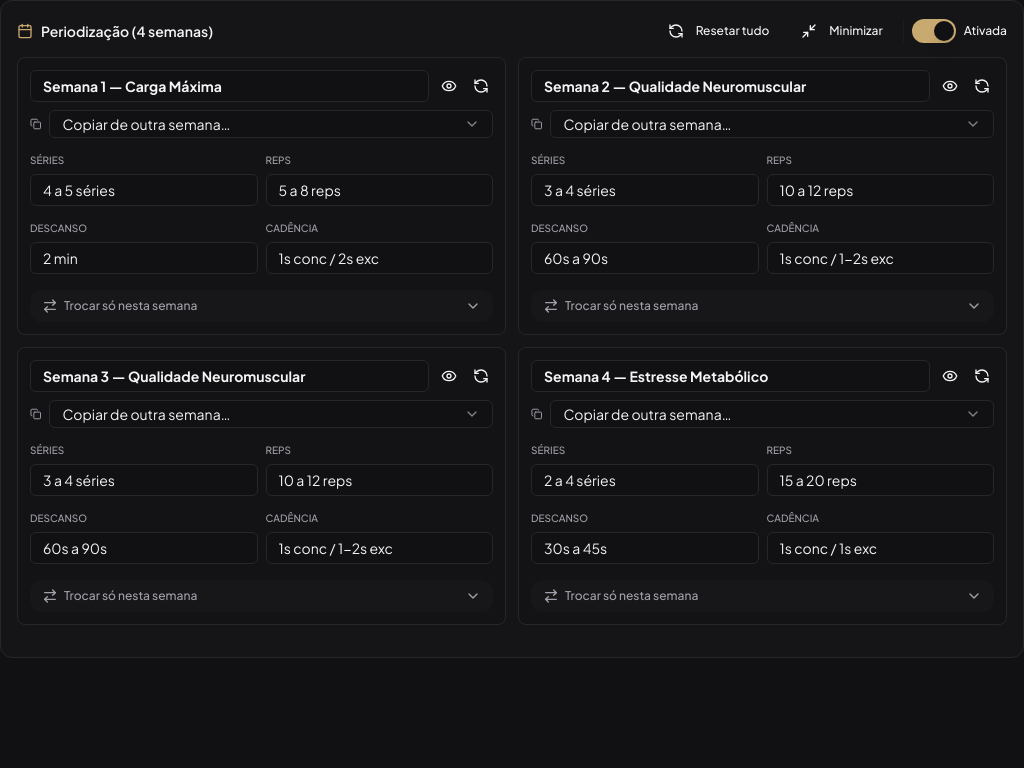
Test: WorkoutPeriodizationEditor — rascunho único + salvar por semana › Resetar padrão pede confirmação quando há rascunho não salvo na semana
Click the 1st button "Trocar só nesta semana": (131,306) [30,290,493,322]
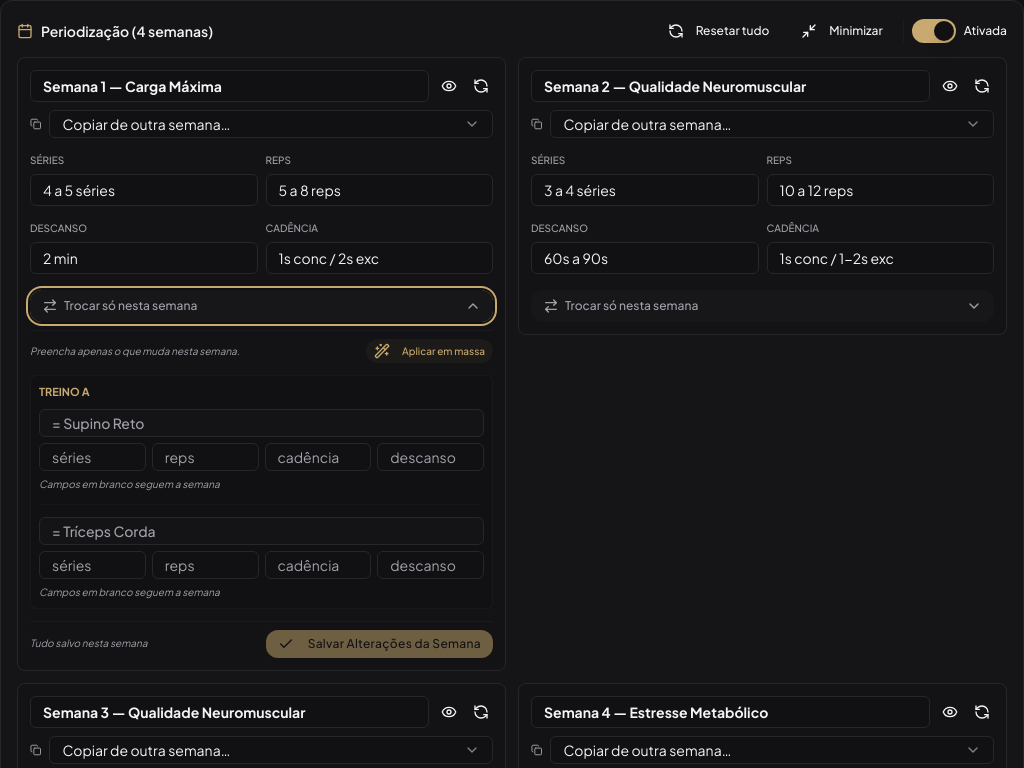
In the 1st field with placeholder "reps": (205,456) [152,442,259,470], type "20"
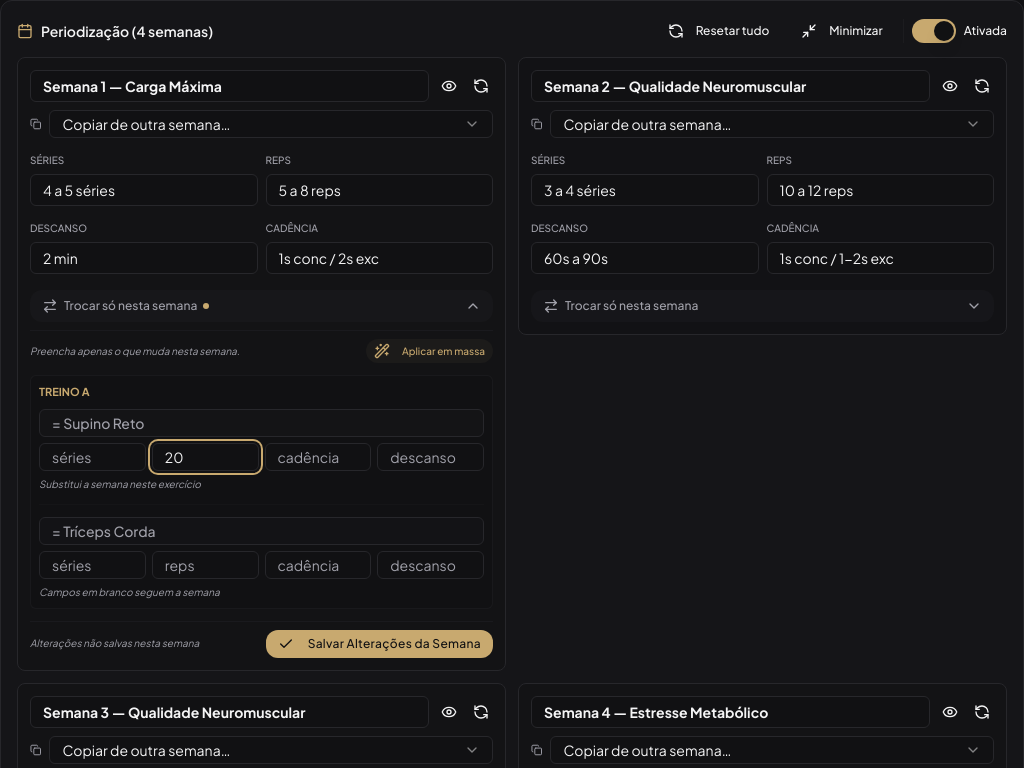
Click the 1st button titled "Resetar padrão": (481,86) [469,72,493,100]
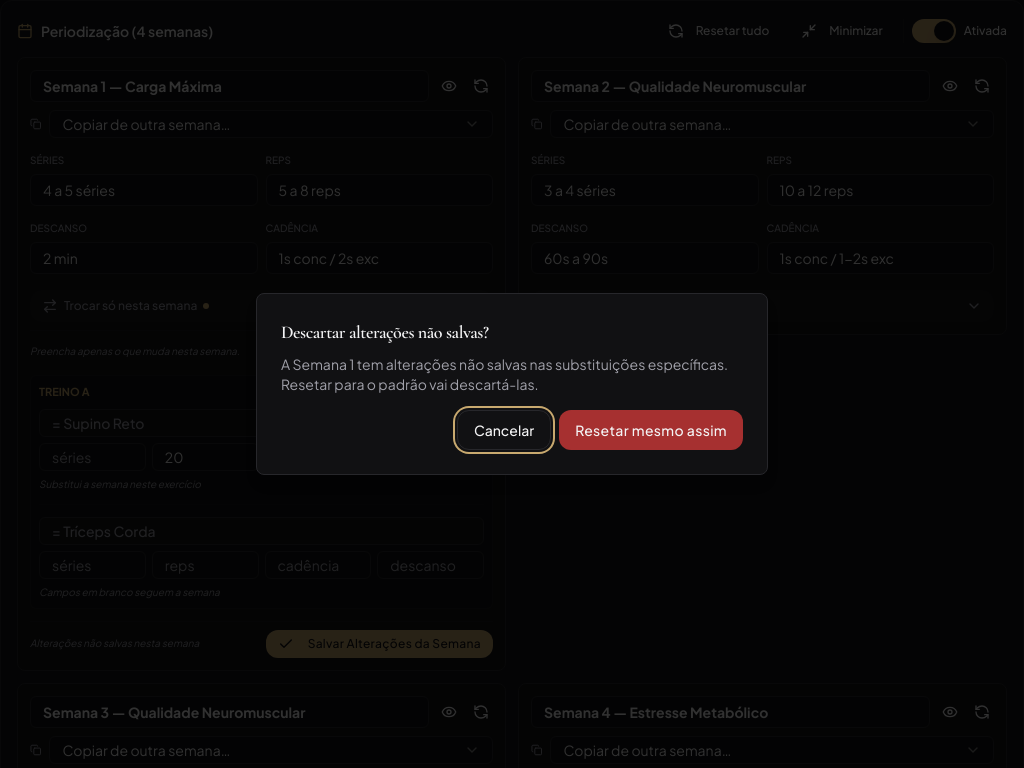
Now the dialog is shown, box [256,293,768,475]
